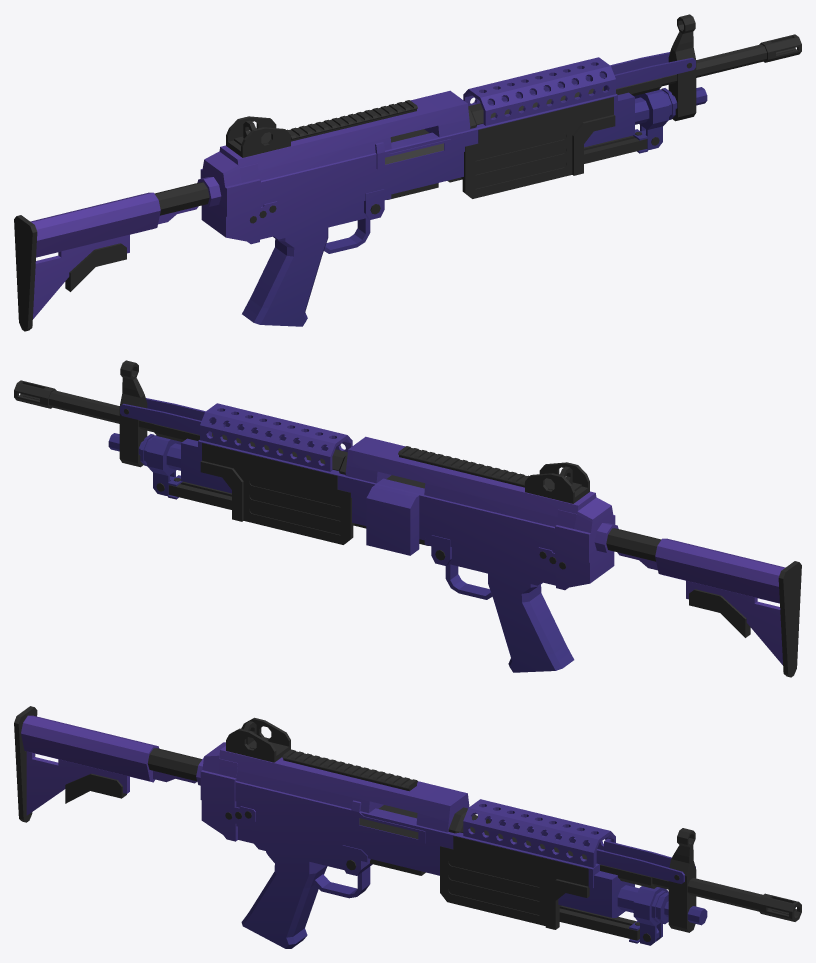
The model's file is LMG2_05.fbx.
3 renders of one model, top to bottom at view 1: azimuth 30°, elevation 25°; view 2: azimuth 150°, elevation 25°; view 3: azimuth 330°, elevation 25°, orthographic.
Parts seen in each view (by area): view 1: LMG2_05; view 2: LMG2_05; view 3: LMG2_05.
Part boxes in pixels (<box>): LMG2_05: <box>14,14,801,331</box>; LMG2_05: <box>14,360,801,677</box>; LMG2_05: <box>14,706,801,948</box>.
Size of the model in its own units: 1.13 by 0.2931 by 0.0903.
